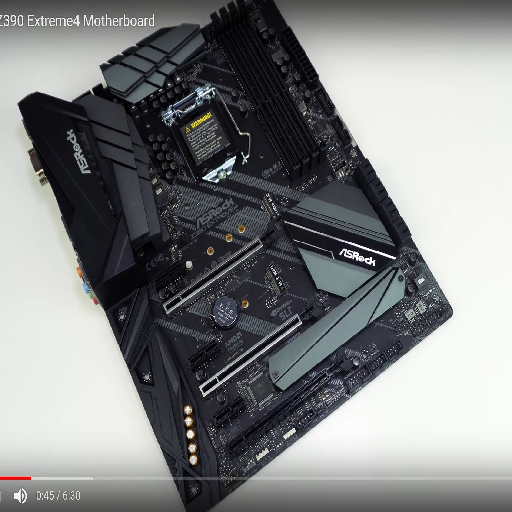CPU: (161, 87, 237, 184)
GPU: (199, 294, 324, 398), (162, 217, 282, 318)
MOTHERBOARD: (25, 1, 452, 510)
RAM: (212, 1, 327, 178)
SSD: (265, 263, 287, 299), (259, 191, 283, 220)
